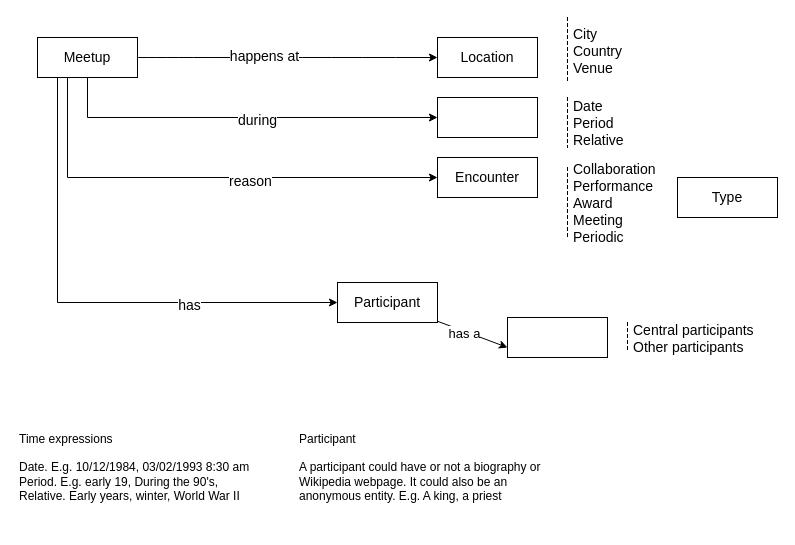
The diagram is 795 pixels wide and 545 high, and some of its shapes have lost their labels. Each missing label, with the centre of its shape:
"Role" goes at [557,337].
"Time expression" goes at [487,117].
